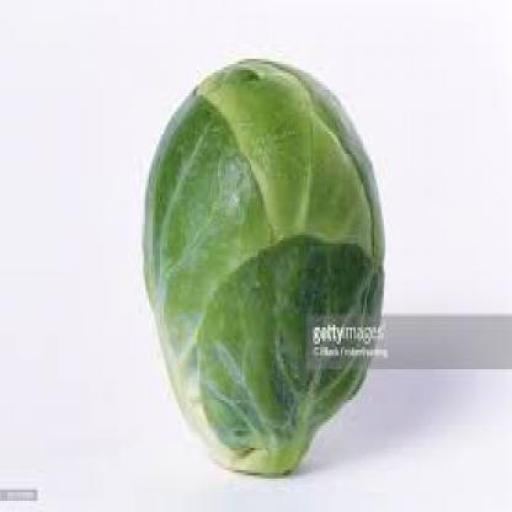biodegradable: (140, 55, 382, 479)
